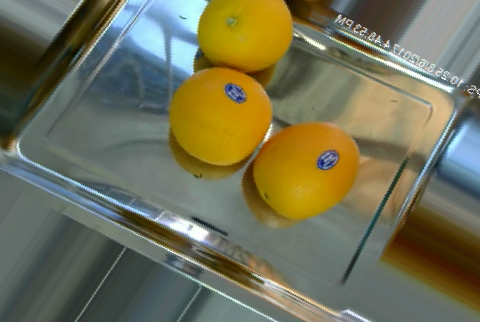Orange: (253, 122, 360, 220), (168, 66, 273, 165), (196, 0, 294, 72)
